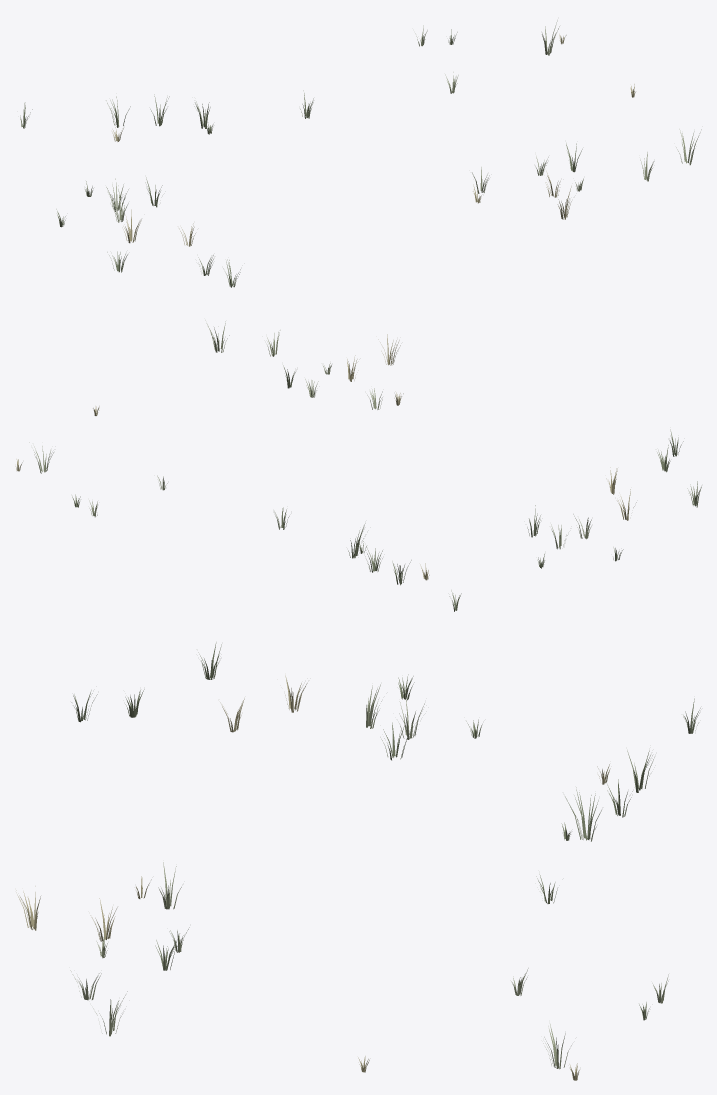
The model's file is AE_Grass_-3_-3.fbx.
3 views of the same model, one above another, from view 1: azimuth 30°, elevation 25°; view 2: azimuth 150°, elevation 25°; view 3: azimuth 270°, elevation 25° (orthographic). The views are drawn at different scales.
Visible parts, largest first — view 1: AE_Grass_-3_-3_LOD0; view 2: AE_Grass_-3_-3_LOD0; view 3: AE_Grass_-3_-3_LOD0.
Boxes of the visible parts, x1,y1,x2,y2 form: AE_Grass_-3_-3_LOD0: (20, 20, 701, 287); AE_Grass_-3_-3_LOD0: (15, 320, 701, 611); AE_Grass_-3_-3_LOD0: (16, 642, 700, 1080).
Size of what is drawn, in the model's own units: 1802 by 141 by 1315.
